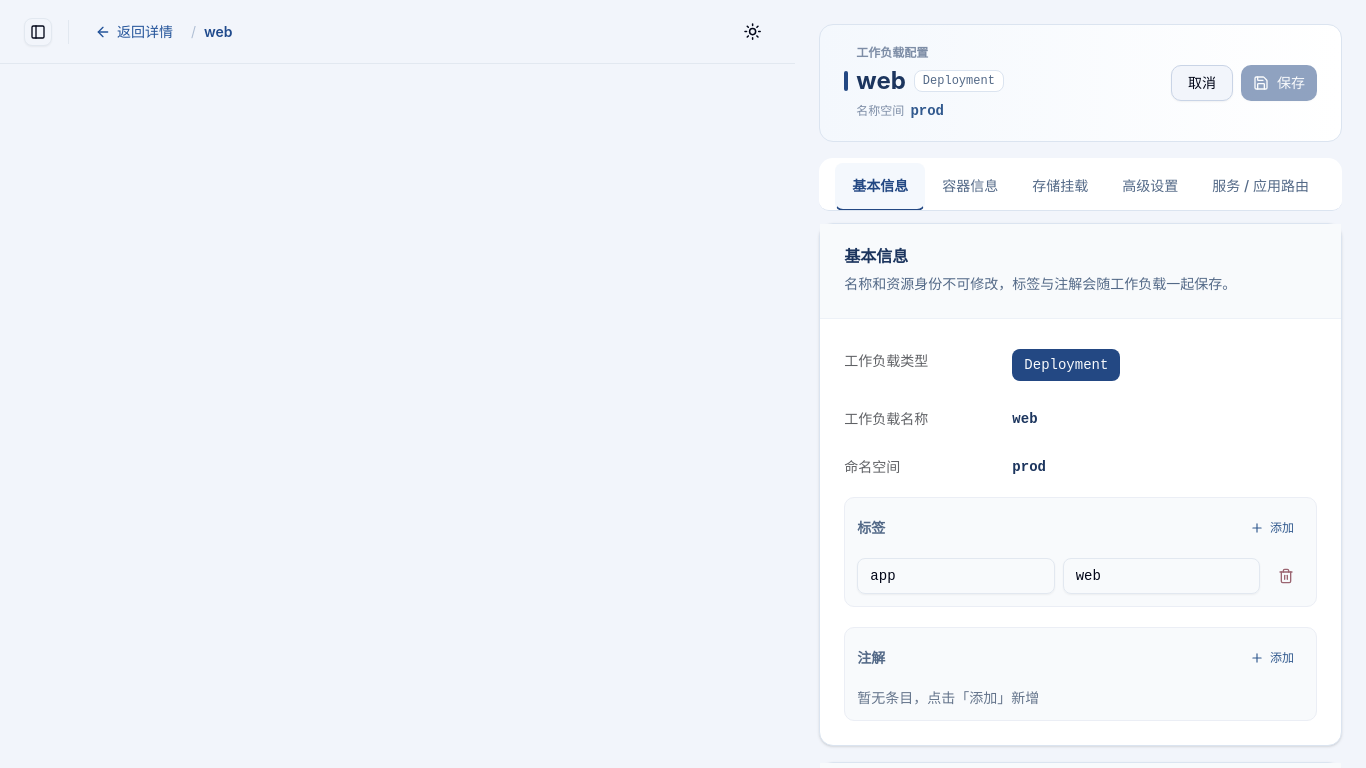
Test: WorkloadEditorPage › renders the Kuboard-style form sections
Expected: the tab "基本信息" is shown, left=835, top=162, right=925, bottom=210
Expected: the tab "存储挂载" is shown, left=1015, top=162, right=1105, bottom=210
Click the tab "容器信息": (970,186) left=925, top=162, right=1015, bottom=210
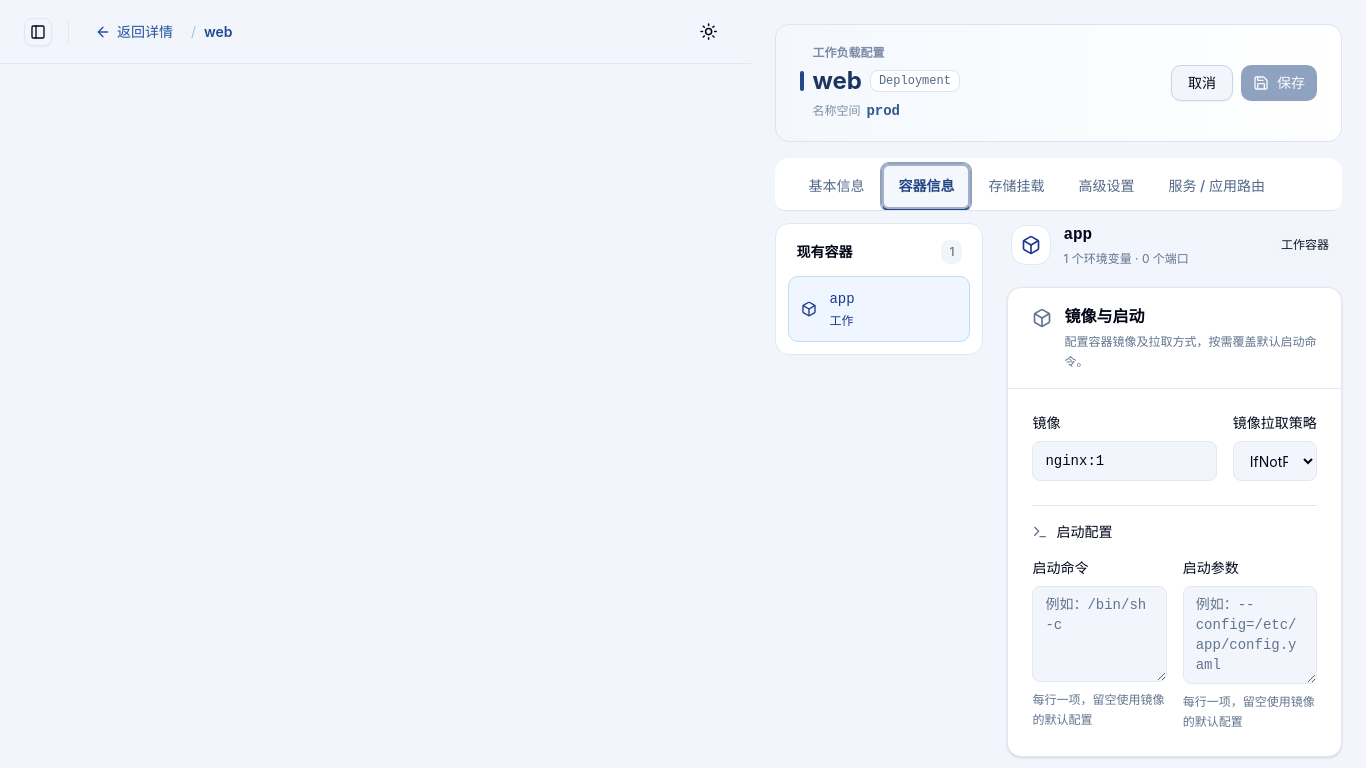
Result: the field named "容器镜像 app" holds "nginx:1" at left=1032, top=441, right=1217, bottom=481
